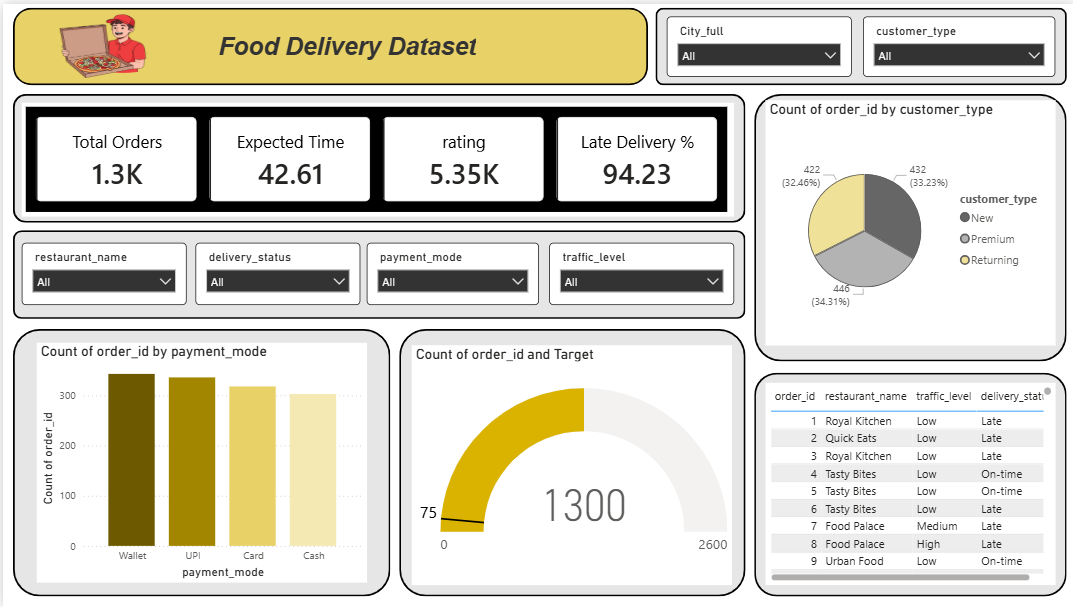

Layout of this report page (visuals, bound fields, positions):
{"tool":"powerbi","page":{"name":"Page 1","canvas":[1280,720],"ordinal":0},"visuals":[{"type":"shape","box":[779.1,4.5,491,92.5],"z":0},{"type":"shape","box":[11.9,270.1,874.6,106],"z":1000},{"type":"shape","box":[473.1,388.1,413.4,319.4],"z":2000},{"type":"shape","box":[11.9,388.1,450.7,319.4],"z":3000},{"type":"shape","box":[897,440.3,373.1,267.2],"z":4000},{"type":"shape","box":[11.9,107.5,874.6,153.7],"z":5000},{"type":"shape","box":[11.9,4.5,758.2,92.5],"z":6000},{"type":"cardVisual","fields":{"Data":["CountNonNull(food_delivery_dataset_extended.order_id)","Avg(food_delivery_dataset_extended.expected_time_min)","Sum(food_delivery_dataset_extended.rating)","food_delivery_dataset_extended.Late Delivery %"]},"box":[22.4,117.9,850.7,135.8],"z":7000},{"type":"slicer","fields":{"Values":["food_delivery_dataset_extended.City_full"]},"box":[792.5,14.9,220.9,71.6],"z":8000},{"type":"slicer","fields":{"Values":["food_delivery_dataset_extended.customer_type"]},"box":[1026.9,14.9,229.9,71.6],"z":9000},{"type":"slicer","fields":{"Values":["food_delivery_dataset_extended.payment_mode"]},"box":[434.3,285.1,206,74.6],"z":10000},{"type":"tableEx","fields":{"Values":["food_delivery_dataset_extended.order_id","food_delivery_dataset_extended.restaurant_name","food_delivery_dataset_extended.traffic_level","food_delivery_dataset_extended.delivery_status"]},"box":[910.4,452.2,346.3,241.8],"z":11000},{"type":"shape","box":[897,107.5,373.1,319.4],"z":12000},{"type":"pieChart","fields":{"Y":["CountNonNull(food_delivery_dataset_extended.order_id)"],"Series":["food_delivery_dataset_extended.customer_type"]},"box":[910.4,114.9,346.3,292.5],"z":13000},{"type":"slicer","fields":{"Values":["food_delivery_dataset_extended.restaurant_name"]},"box":[22.4,285.1,197,74.6],"z":14000},{"type":"columnChart","fields":{"Category":["food_delivery_dataset_extended.payment_mode"],"Y":["CountNonNull(food_delivery_dataset_extended.order_id)"]},"box":[40.3,404.5,394,286.6],"z":15000},{"type":"slicer","fields":{"Values":["food_delivery_dataset_extended.delivery_status"]},"box":[229.9,285.1,197,74.6],"z":16000},{"type":"gauge","fields":{"TargetValue":["food_delivery_dataset_extended.Target"],"Y":["Count(food_delivery_dataset_extended.order_id)"]},"box":[488.1,407.5,382.1,286.6],"z":17000},{"type":"slicer","fields":{"Values":["food_delivery_dataset_extended.traffic_level"]},"box":[652.2,285.1,220.9,74.6],"z":18000},{"type":"image","box":[52.2,0,135.8,97],"z":19000}]}

Visuals, with their boxes in screenshot pixels (x1, y1, x2, y2), scaled from the page's 1280x720 canvas onto the 1073x607 screenshot:
shape: (653, 4, 1065, 82)
shape: (10, 228, 743, 317)
shape: (397, 327, 743, 596)
shape: (10, 327, 388, 596)
shape: (752, 371, 1065, 596)
shape: (10, 91, 743, 220)
shape: (10, 4, 646, 82)
cardVisual - CountNonNull(food_delivery_dataset_extended.order_id) x Avg(food_delivery_dataset_extended.expected_time_min): (19, 99, 732, 214)
slicer - food_delivery_dataset_extended.City_full: (664, 13, 850, 73)
slicer - food_delivery_dataset_extended.customer_type: (861, 13, 1054, 73)
slicer - food_delivery_dataset_extended.payment_mode: (364, 240, 537, 303)
tableEx - food_delivery_dataset_extended.order_id x food_delivery_dataset_extended.restaurant_name: (763, 381, 1053, 585)
shape: (752, 91, 1065, 360)
pieChart - CountNonNull(food_delivery_dataset_extended.order_id) x food_delivery_dataset_extended.customer_type: (763, 97, 1053, 343)
slicer - food_delivery_dataset_extended.restaurant_name: (19, 240, 184, 303)
columnChart - food_delivery_dataset_extended.payment_mode x CountNonNull(food_delivery_dataset_extended.order_id): (34, 341, 364, 583)
slicer - food_delivery_dataset_extended.delivery_status: (193, 240, 358, 303)
gauge - food_delivery_dataset_extended.Target x Count(food_delivery_dataset_extended.order_id): (409, 344, 729, 585)
slicer - food_delivery_dataset_extended.traffic_level: (547, 240, 732, 303)
image: (44, 0, 158, 82)
